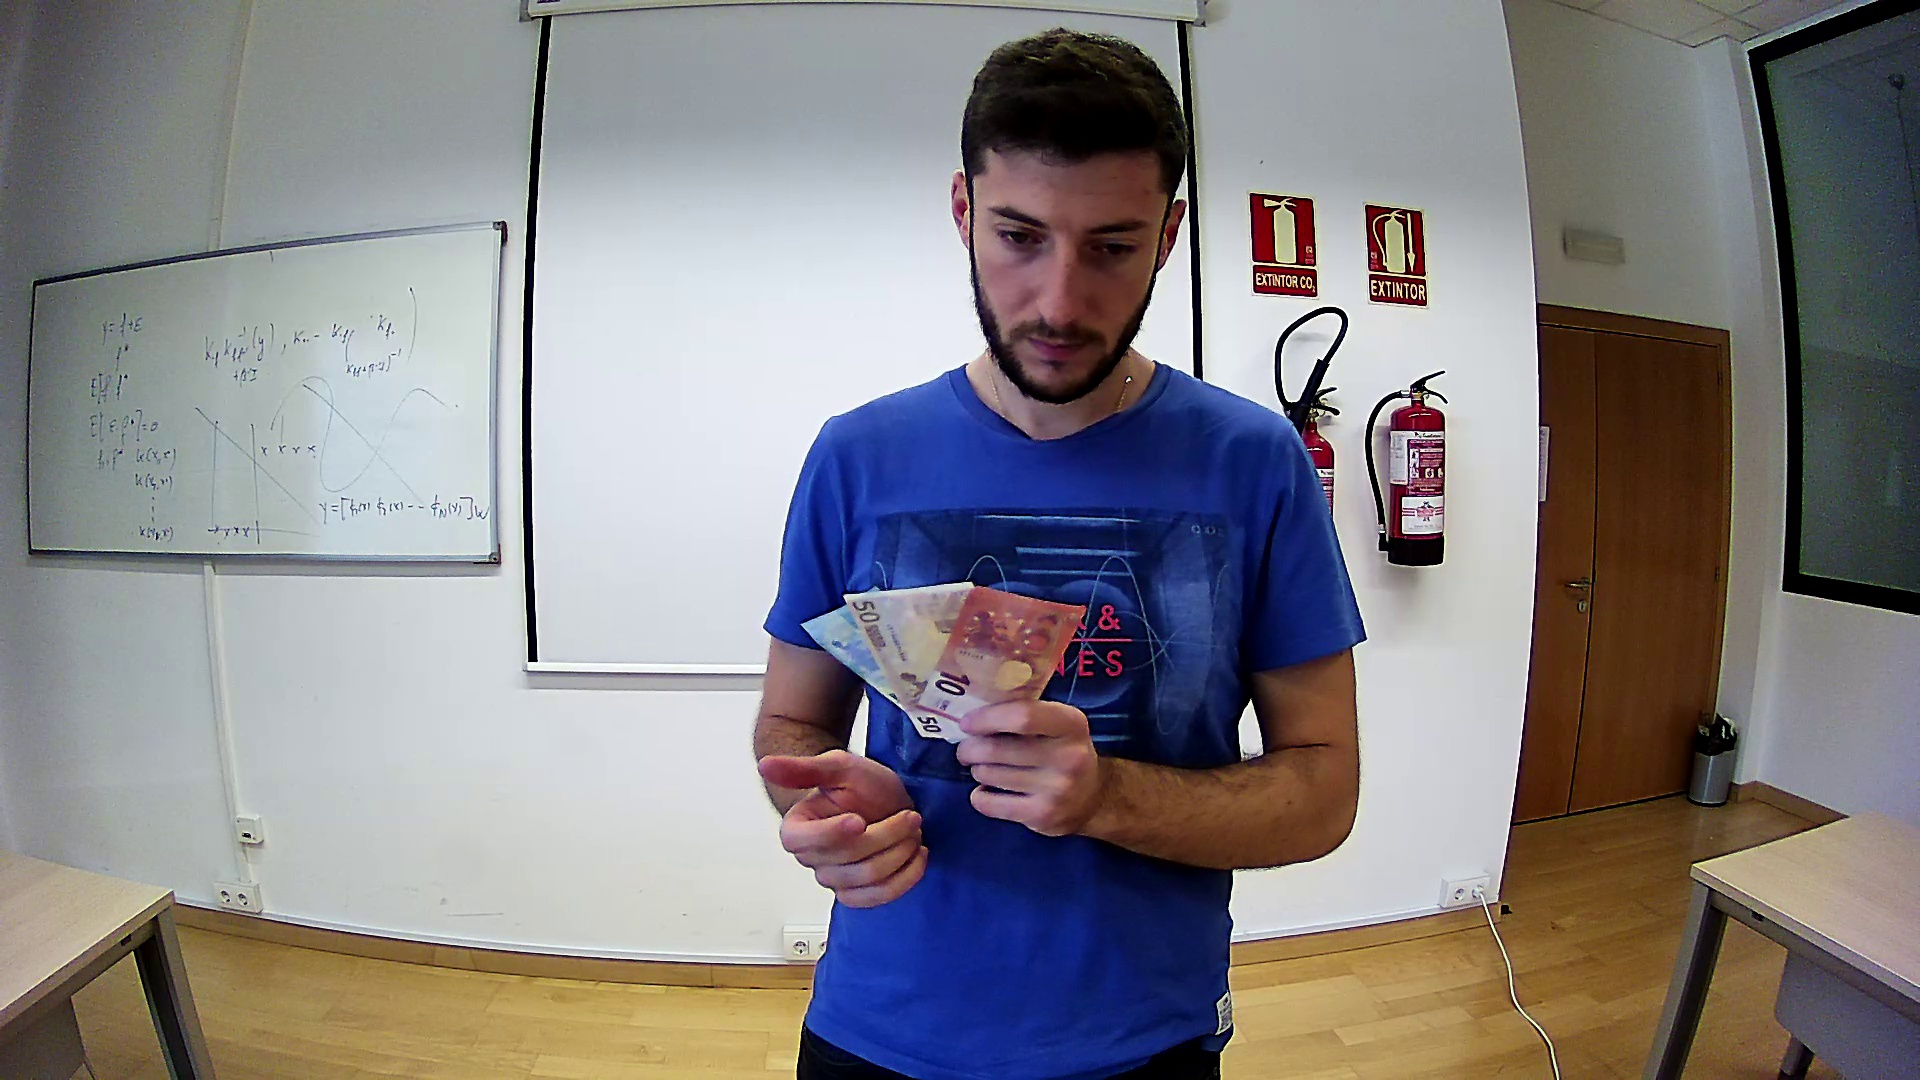billete: (916, 585, 1091, 723), (844, 580, 975, 738), (800, 583, 911, 713)
